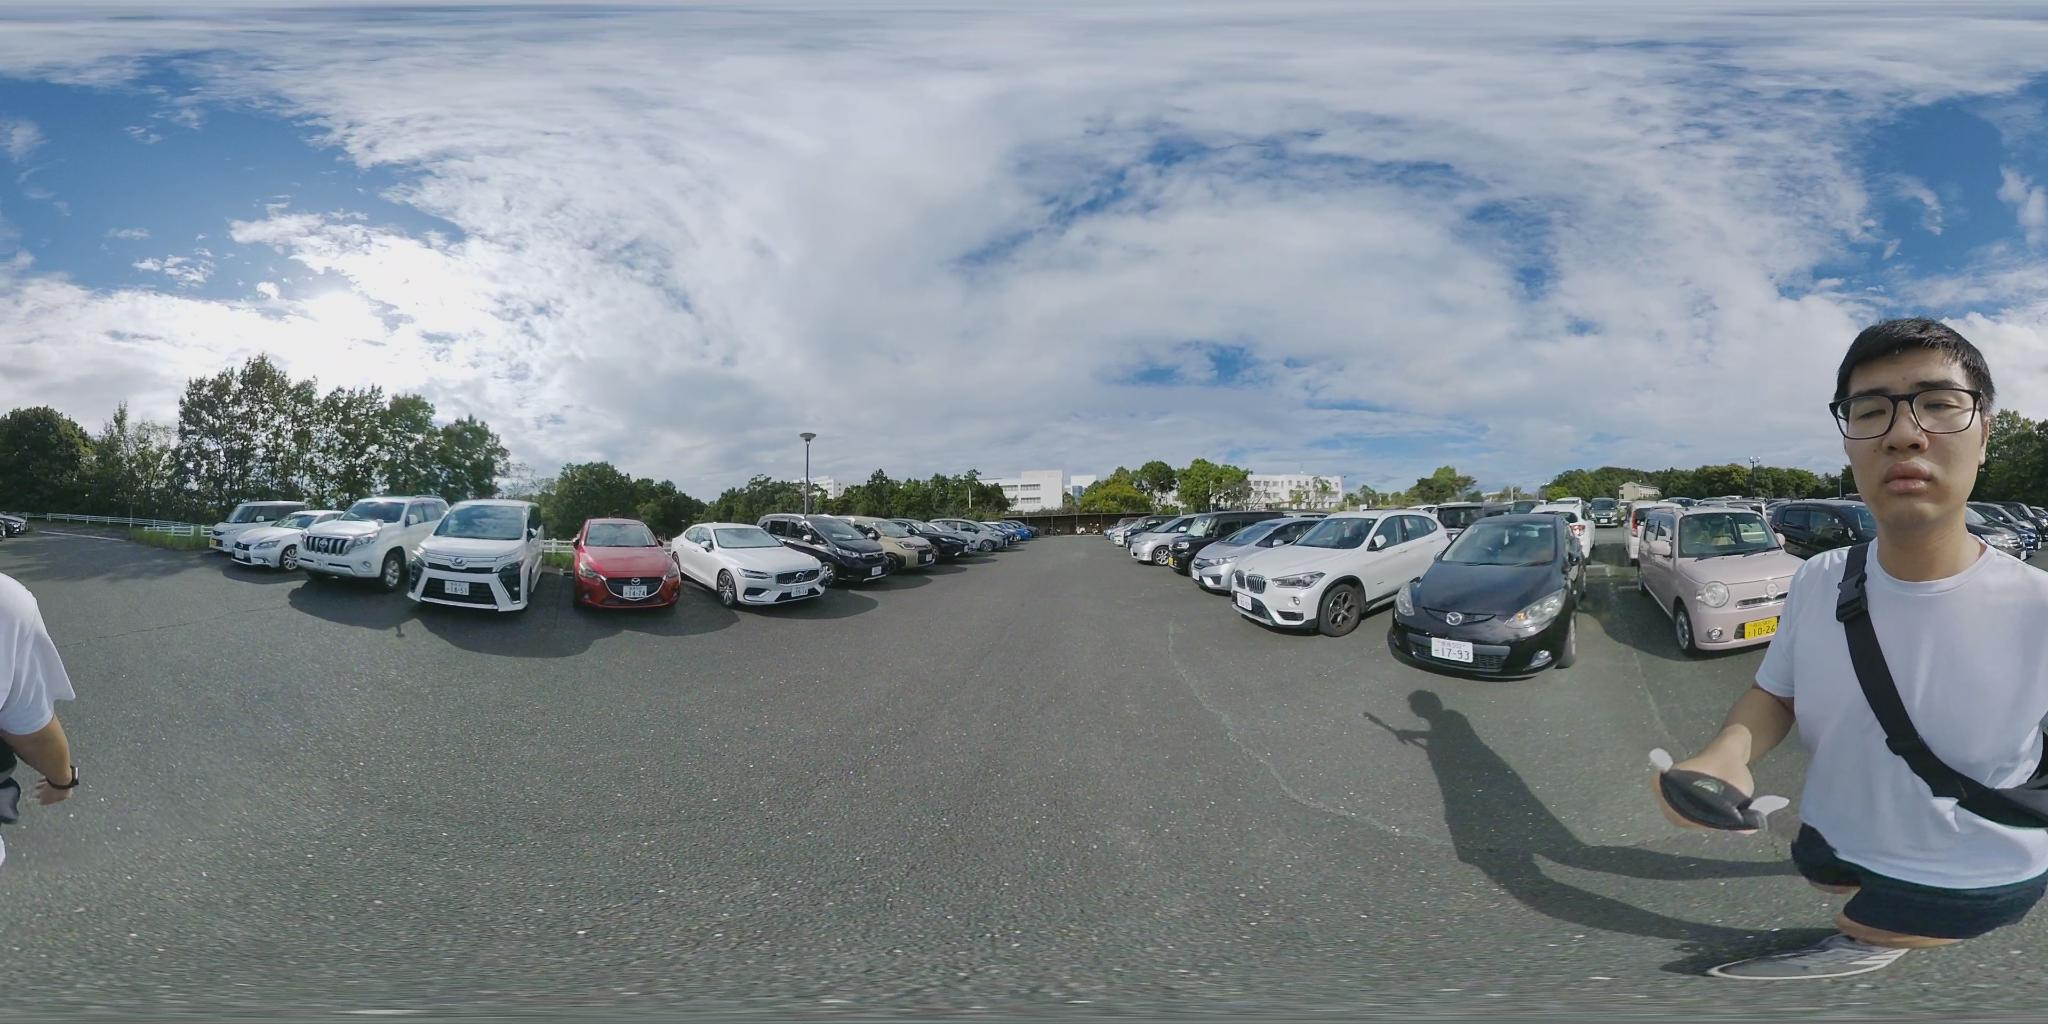car: (1596, 504, 1863, 661), (1381, 511, 1600, 680), (1196, 512, 1458, 637), (413, 502, 559, 623), (298, 498, 458, 586), (667, 524, 833, 606), (569, 521, 678, 607), (1178, 512, 1318, 576), (765, 517, 904, 581), (1128, 509, 1285, 566), (212, 502, 337, 567), (922, 521, 994, 556), (986, 524, 1033, 549), (0, 513, 24, 541)
